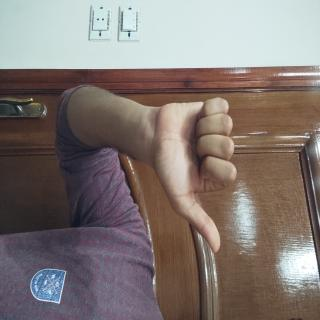DAD: (69, 105, 193, 227)
